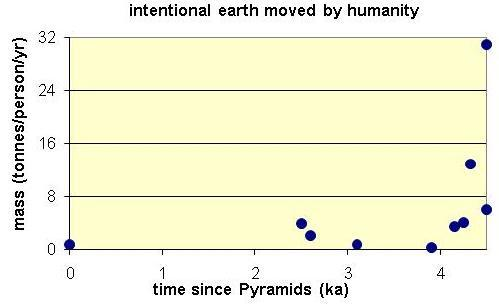axis: (60, 247, 490, 256), (63, 30, 73, 257)
point: (300, 226, 319, 243), (422, 239, 441, 256), (445, 216, 462, 234), (462, 155, 480, 172), (476, 201, 496, 216), (293, 214, 310, 231), (478, 37, 495, 54), (60, 236, 78, 252), (455, 215, 473, 231), (349, 238, 369, 251)
